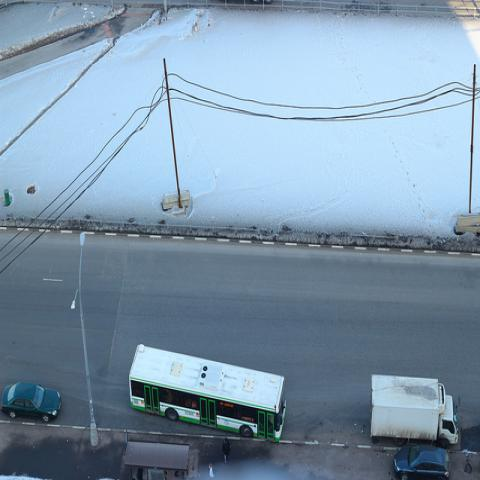bus: (129, 343, 287, 441)
car: (1, 383, 62, 423), (391, 441, 450, 478)
truck: (369, 374, 465, 448)
